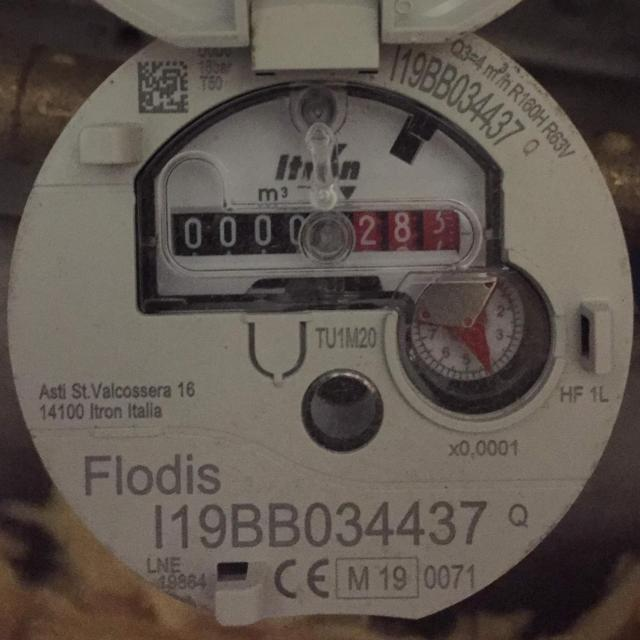gaz_meter: (12, 15, 640, 619)
indication: (167, 202, 466, 257)
